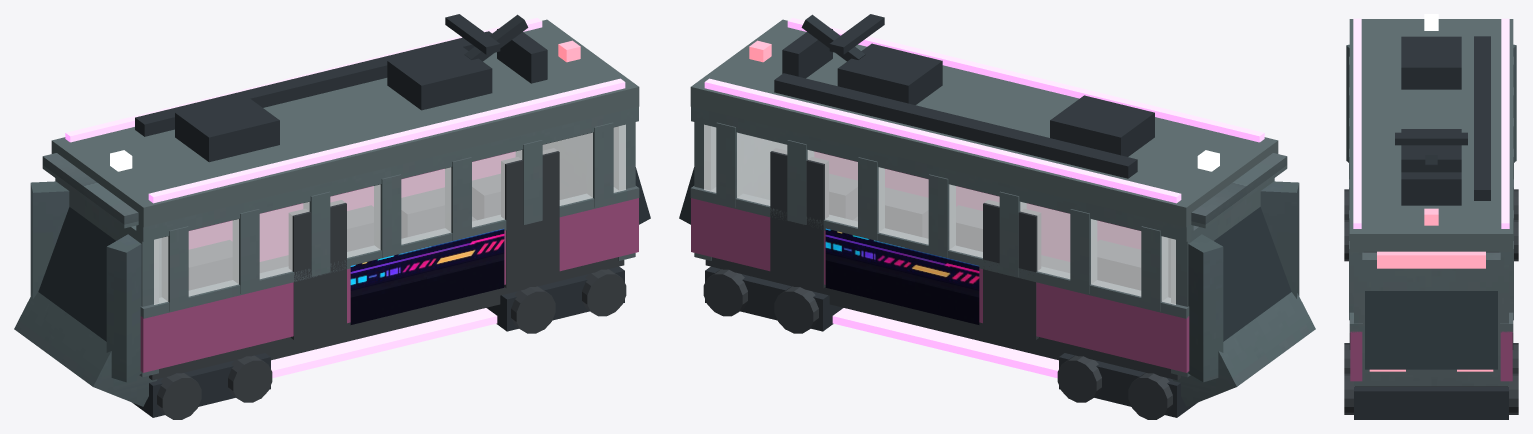
File: decor-train.glb
The picture shows the model from 3 angles, left to right: view 1: azimuth 30°, elevation 25°; view 2: azimuth 150°, elevation 25°; view 3: azimuth 270°, elevation 25°; orthographic projection. The views are drawn at different scales.
Parts seen in each view (by area): view 1: DecorTrain; view 2: DecorTrain; view 3: DecorTrain.
Part boxes in pixels (x1,y1,x2,y2): DecorTrain: (14, 14, 650, 419); DecorTrain: (679, 14, 1315, 419); DecorTrain: (1344, 14, 1518, 419).
Bounding box in the file's own units: 0.4746 × 0.2205 × 0.144.
16 materials, 3 textured.
